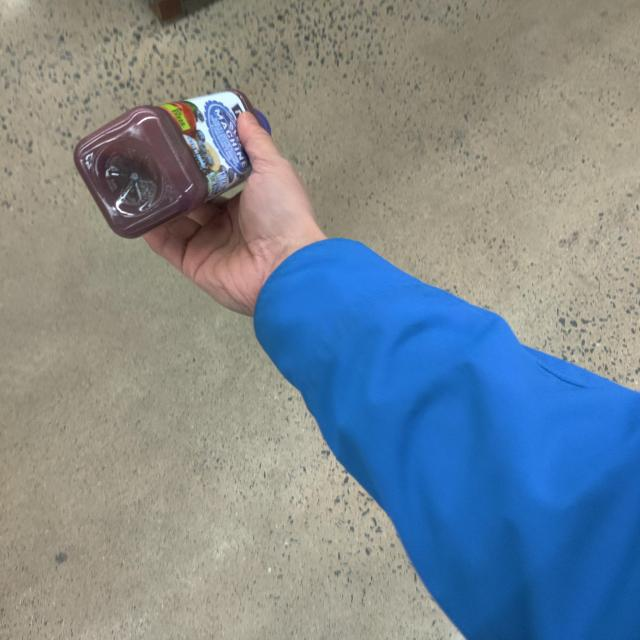Juice: (76, 90, 272, 236)
